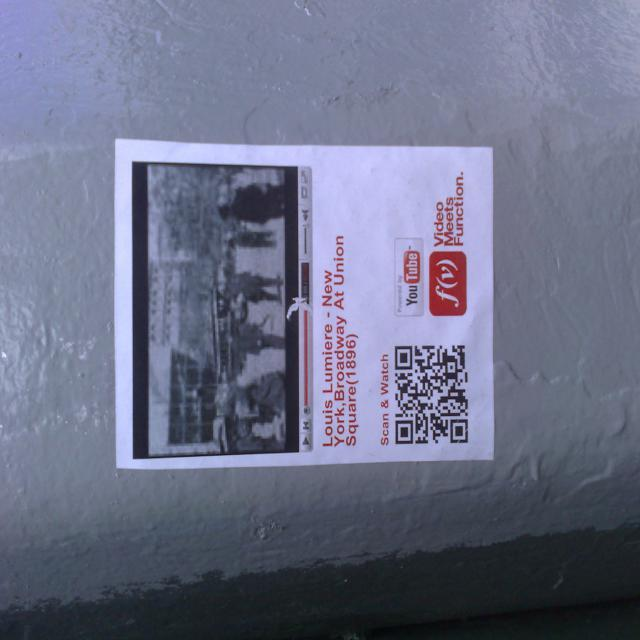qr_code: (394, 345, 468, 443)
